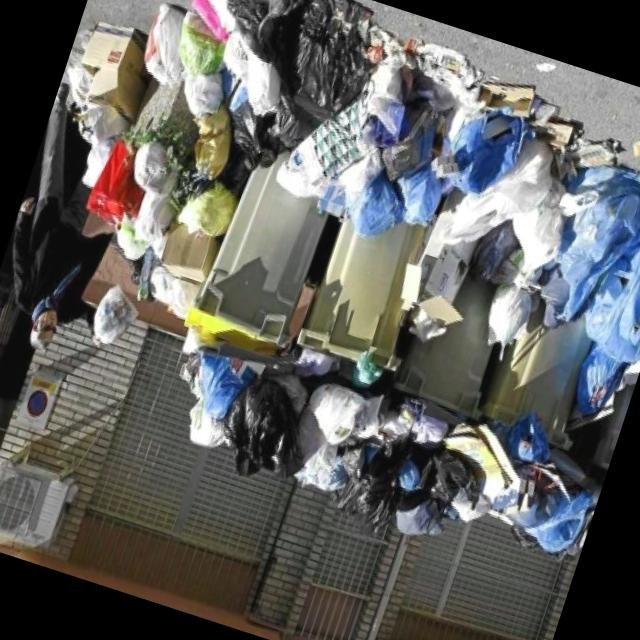high trash: (68, 0, 640, 417), (181, 350, 593, 555)
